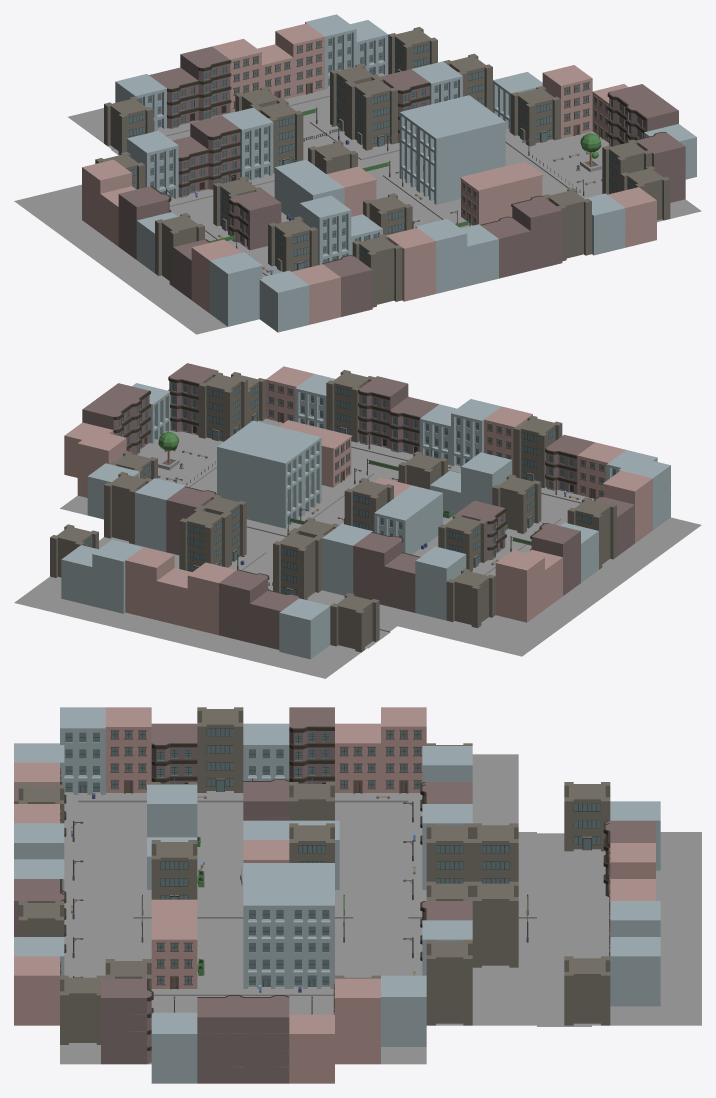
Rendered from Big_Environment.fbx.
3 views of the same model, one above another, from view 1: azimuth 30°, elevation 25°; view 2: azimuth 150°, elevation 25°; view 3: azimuth 270°, elevation 25° (orthographic). The views are drawn at different scales.
Visible parts, largest first — view 1: Big_Environment; view 2: Big_Environment; view 3: Big_Environment.
Boxes of the visible parts, <box> form: Big_Environment: <box>14,14,701,334</box>; Big_Environment: <box>14,363,701,678</box>; Big_Environment: <box>14,707,701,1083</box>.
Bounding box in the file's own units: 170 × 20.33 × 150.
